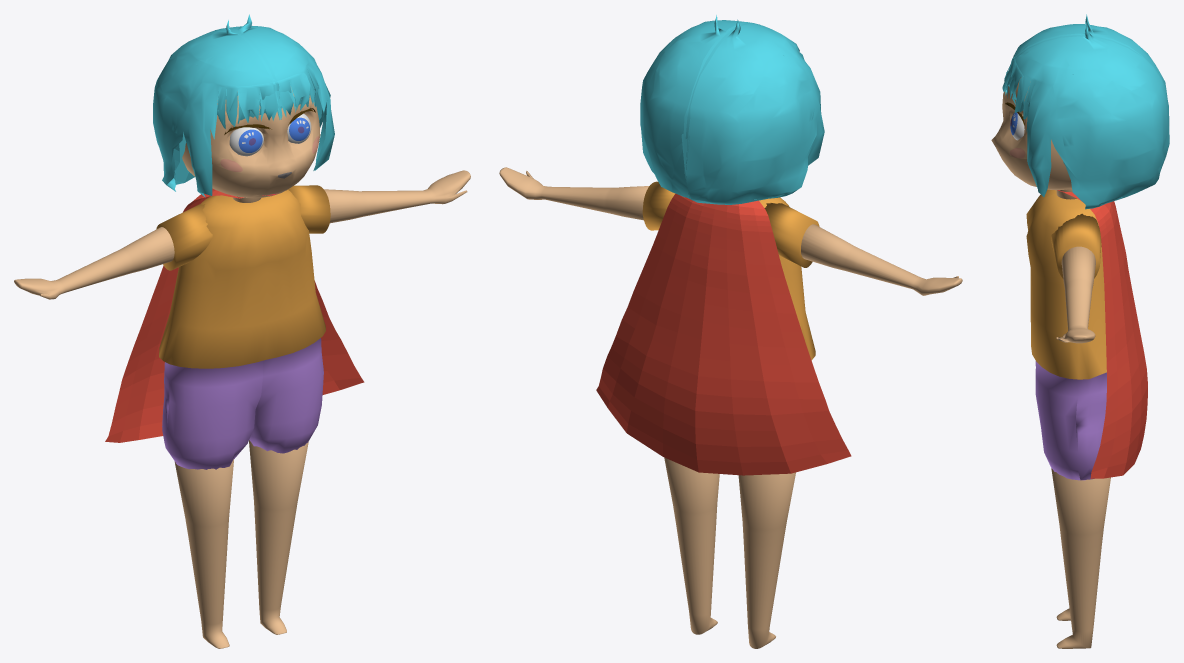
File: Player0603.fbx
3 renders of one model, left to right at view 1: azimuth 30°, elevation 25°; view 2: azimuth 150°, elevation 25°; view 3: azimuth 270°, elevation 25°, orthographic.
Parts seen in each view (by area): view 1: Body, Hear, RReg, mant, RArm, Head, Eye; view 2: mant, Hear, RReg, RArm, Body; view 3: Hear, Body, mant, RReg, RArm, Head, Eye.
Boxes of the visible parts, x1,y1,x2,y2 form: Body: [156, 185, 330, 469]; Hear: [153, 14, 334, 197]; RReg: [174, 440, 308, 648]; mant: [105, 188, 364, 442]; RArm: [14, 170, 470, 299]; Head: [182, 90, 320, 197]; Eye: [229, 113, 311, 156]; mant: [596, 193, 851, 475]; Hear: [640, 15, 824, 204]; RReg: [664, 457, 795, 648]; RArm: [499, 167, 962, 295]; Body: [642, 181, 819, 360]; Hear: [1002, 14, 1169, 209]; Body: [1026, 189, 1106, 480]; mant: [1057, 190, 1147, 478]; RReg: [1051, 468, 1110, 648]; RArm: [1056, 246, 1095, 343]; Head: [991, 77, 1071, 190]; Eye: [1010, 112, 1024, 140].
Size of the model in its own units: 332 by 431 by 114.
